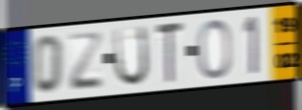0: (31, 33, 65, 97)
1: (243, 14, 260, 77)
O: (196, 18, 232, 81)
T: (155, 21, 186, 87)
U: (113, 23, 151, 89)
Z: (67, 31, 104, 93)
